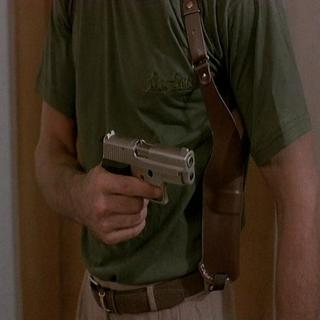gun: (96, 126, 200, 244)
